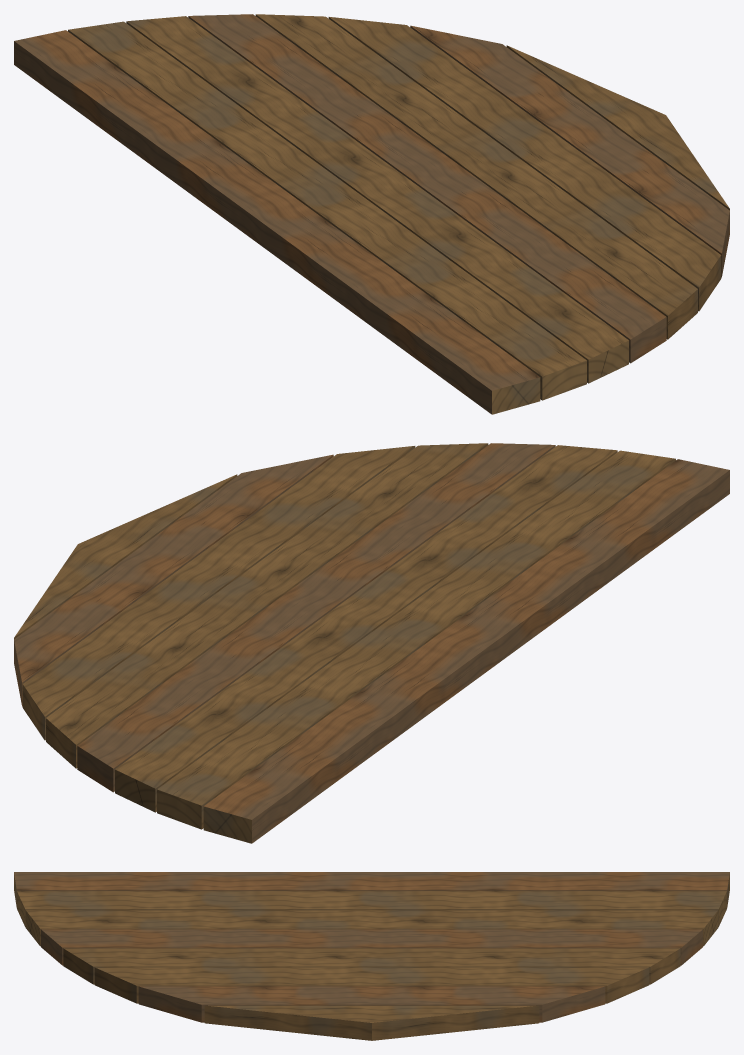
The model's file is b01_niche_floor.fbx.
The picture shows the model from 3 angles, top to bottom: view 1: azimuth 30°, elevation 25°; view 2: azimuth 150°, elevation 25°; view 3: azimuth 270°, elevation 25°; orthographic projection. The views are drawn at different scales.
Parts seen in each view (by area): view 1: b01_niche_floor; view 2: b01_niche_floor; view 3: b01_niche_floor.
Boxes of the visible parts, left/top/right/bottom form: b01_niche_floor: left=14, top=14, right=729, bottom=414; b01_niche_floor: left=14, top=443, right=729, bottom=843; b01_niche_floor: left=14, top=872, right=729, bottom=1040.
Size of the model in its own units: 25340 by 50800 by 1400.
